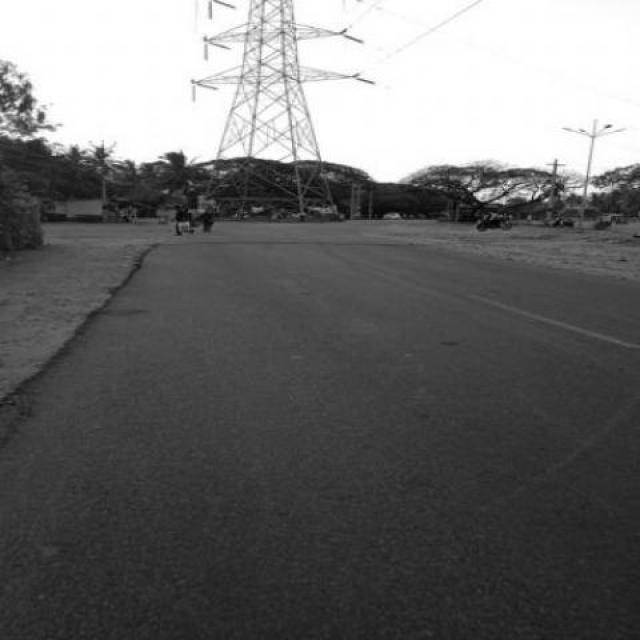Pothole: (97, 300, 162, 330)
Unmarked Bump: (149, 238, 420, 250)
